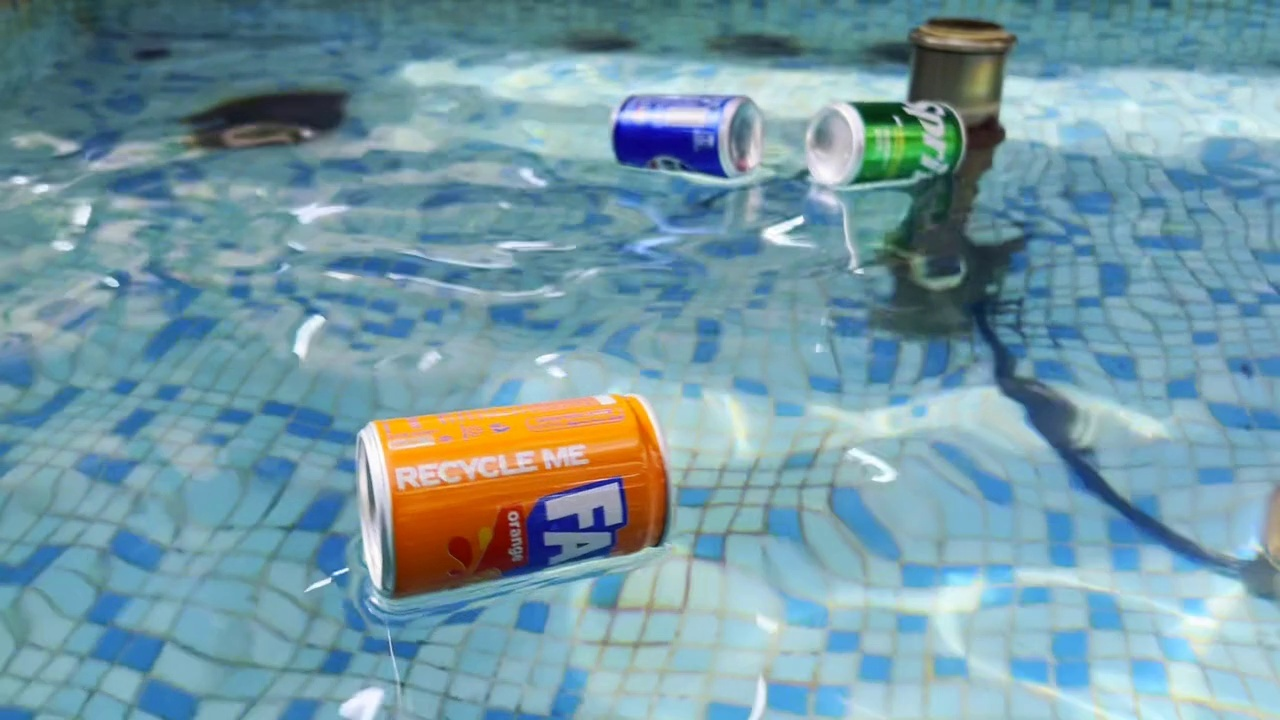debris: (343, 368, 671, 613), (805, 91, 976, 192), (605, 86, 776, 180)
